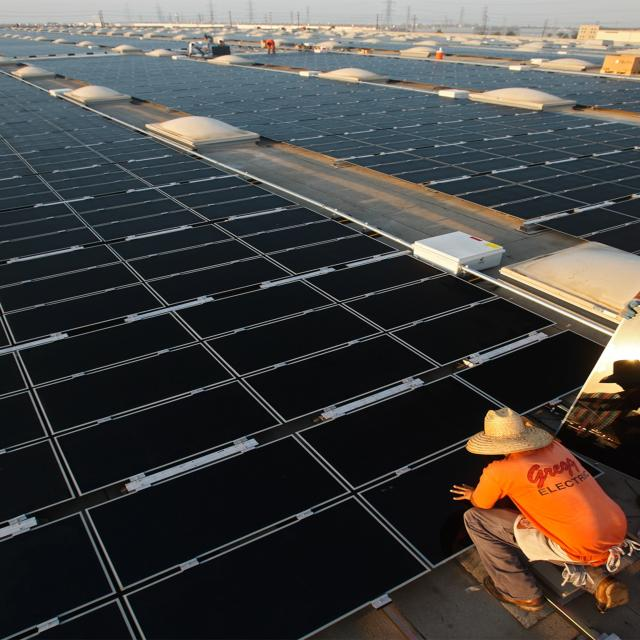clean-solar-panel: (0, 76, 600, 640), (47, 56, 640, 251)
